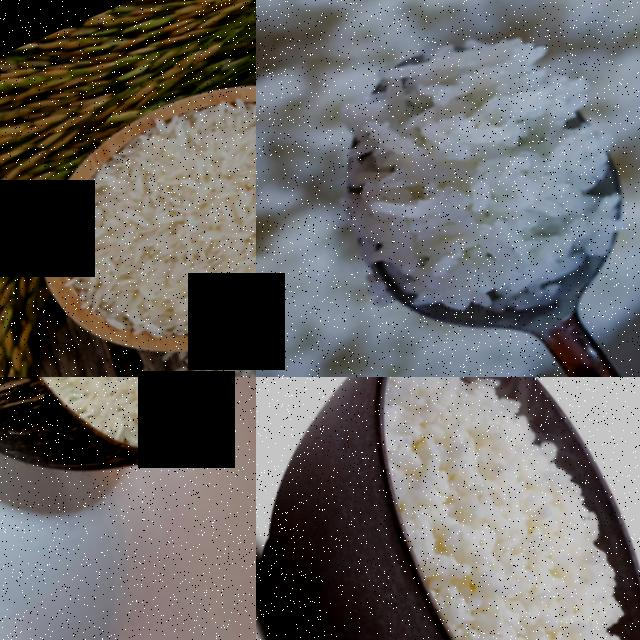white rice: (312, 0, 640, 324), (323, 377, 640, 640), (38, 57, 256, 368), (0, 377, 256, 489)
